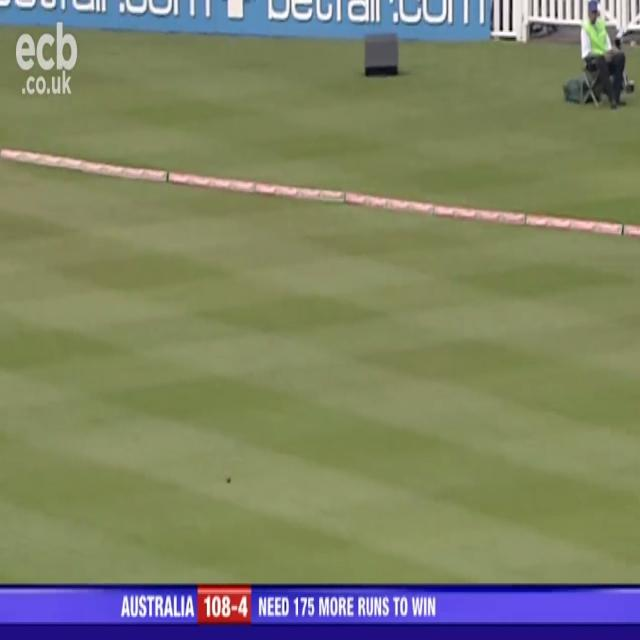ball: (224, 473, 234, 489)
